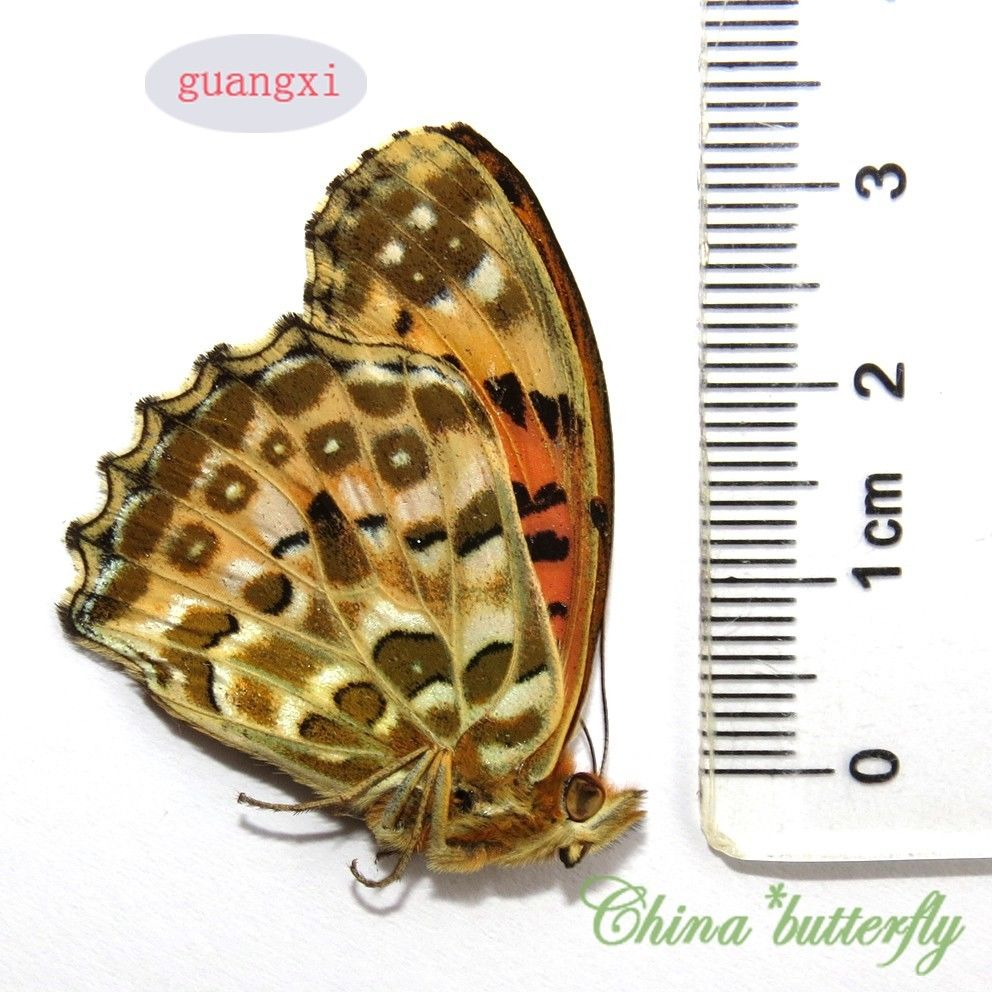Argyreus hyperbius: (59, 118, 651, 893)
butterfly: (61, 120, 653, 895)
